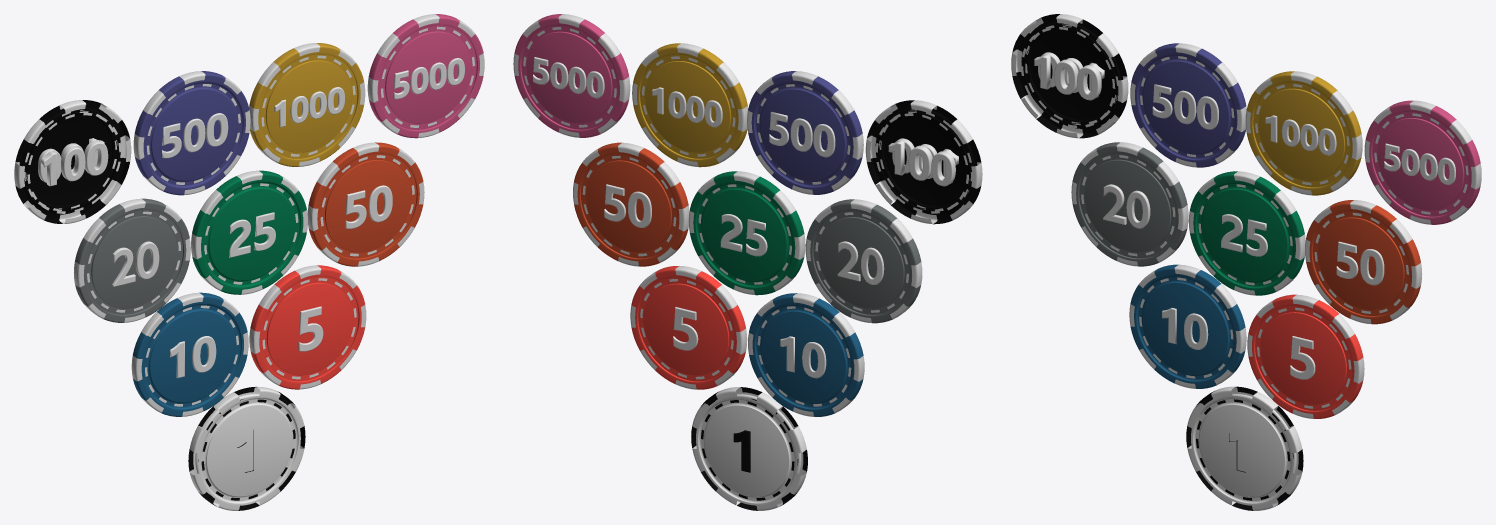
Rendered from GLTF_SceneRootNode.glb.
3 views of the same model, side by side, from view 1: azimuth 30°, elevation 25°; view 2: azimuth 150°, elevation 25°; view 3: azimuth 330°, elevation 25° (orthographic).
Parts seen in each view (by area): view 1: Object_5, Object_9, Object_15, Object_25, Object_19, Object_29, Object_44, Object_49, Object_35, Object_40, Object_41, Object_10 (+18 smaller); view 2: Object_5, Object_9, Object_15, Object_19, Object_25, Object_29, Object_44, Object_49, Object_35, Object_40, Object_41, Object_20 (+18 smaller); view 3: Object_5, Object_9, Object_15, Object_25, Object_19, Object_29, Object_44, Object_49, Object_35, Object_40, Object_41, Object_50 (+18 smaller).
Part boxes in pixels (bbox=[...]): Object_5: bbox=[189, 386, 304, 510]; Object_9: bbox=[250, 265, 365, 389]; Object_15: bbox=[133, 292, 247, 416]; Object_25: bbox=[192, 170, 306, 294]; Object_19: bbox=[75, 198, 189, 322]; Object_29: bbox=[308, 142, 423, 266]; Object_44: bbox=[249, 43, 364, 166]; Object_49: bbox=[368, 14, 483, 138]; Object_35: bbox=[134, 71, 249, 195]; Object_40: bbox=[15, 100, 129, 223]; Object_41: bbox=[14, 100, 131, 223]; Object_10: bbox=[249, 265, 366, 389]; Object_5: bbox=[692, 387, 806, 510]; Object_9: bbox=[631, 266, 745, 389]; Object_15: bbox=[749, 293, 863, 416]; Object_19: bbox=[806, 199, 921, 323]; Object_25: bbox=[690, 171, 804, 295]; Object_29: bbox=[574, 142, 688, 266]; Object_44: bbox=[633, 43, 747, 167]; Object_49: bbox=[514, 14, 628, 137]; Object_35: bbox=[748, 71, 862, 194]; Object_40: bbox=[867, 100, 981, 224]; Object_41: bbox=[865, 100, 982, 224]; Object_20: bbox=[805, 199, 922, 323]; Object_5: bbox=[1187, 386, 1302, 510]; Object_9: bbox=[1248, 294, 1363, 418]; Object_15: bbox=[1130, 264, 1245, 388]; Object_25: bbox=[1190, 171, 1304, 295]; Object_19: bbox=[1072, 142, 1187, 266]; Object_29: bbox=[1306, 200, 1420, 324]; Object_44: bbox=[1246, 71, 1361, 195]; Object_49: bbox=[1365, 100, 1480, 224]; Object_35: bbox=[1131, 43, 1246, 167]; Object_40: bbox=[1012, 14, 1126, 138]; Object_41: bbox=[1011, 14, 1128, 138]; Object_50: bbox=[1364, 100, 1481, 224].
Size of the model in its own units: 0.3308 by 0.3038 by 0.0102.
